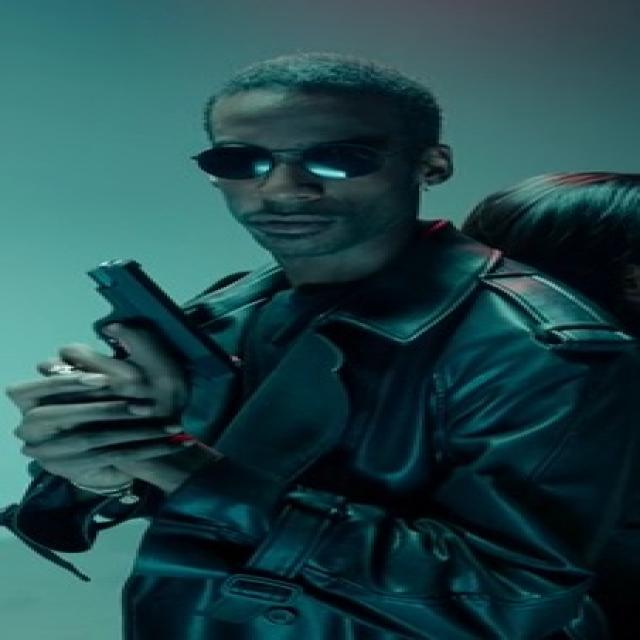Gun_Holder: (21, 252, 253, 433)
Jacket_Wearer: (21, 225, 640, 640)
Person: (3, 64, 640, 640)
